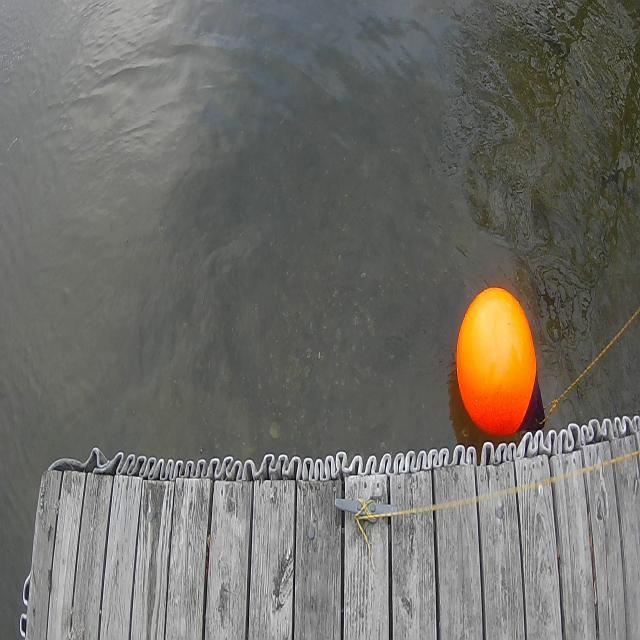Buoy: (450, 278, 552, 442)
